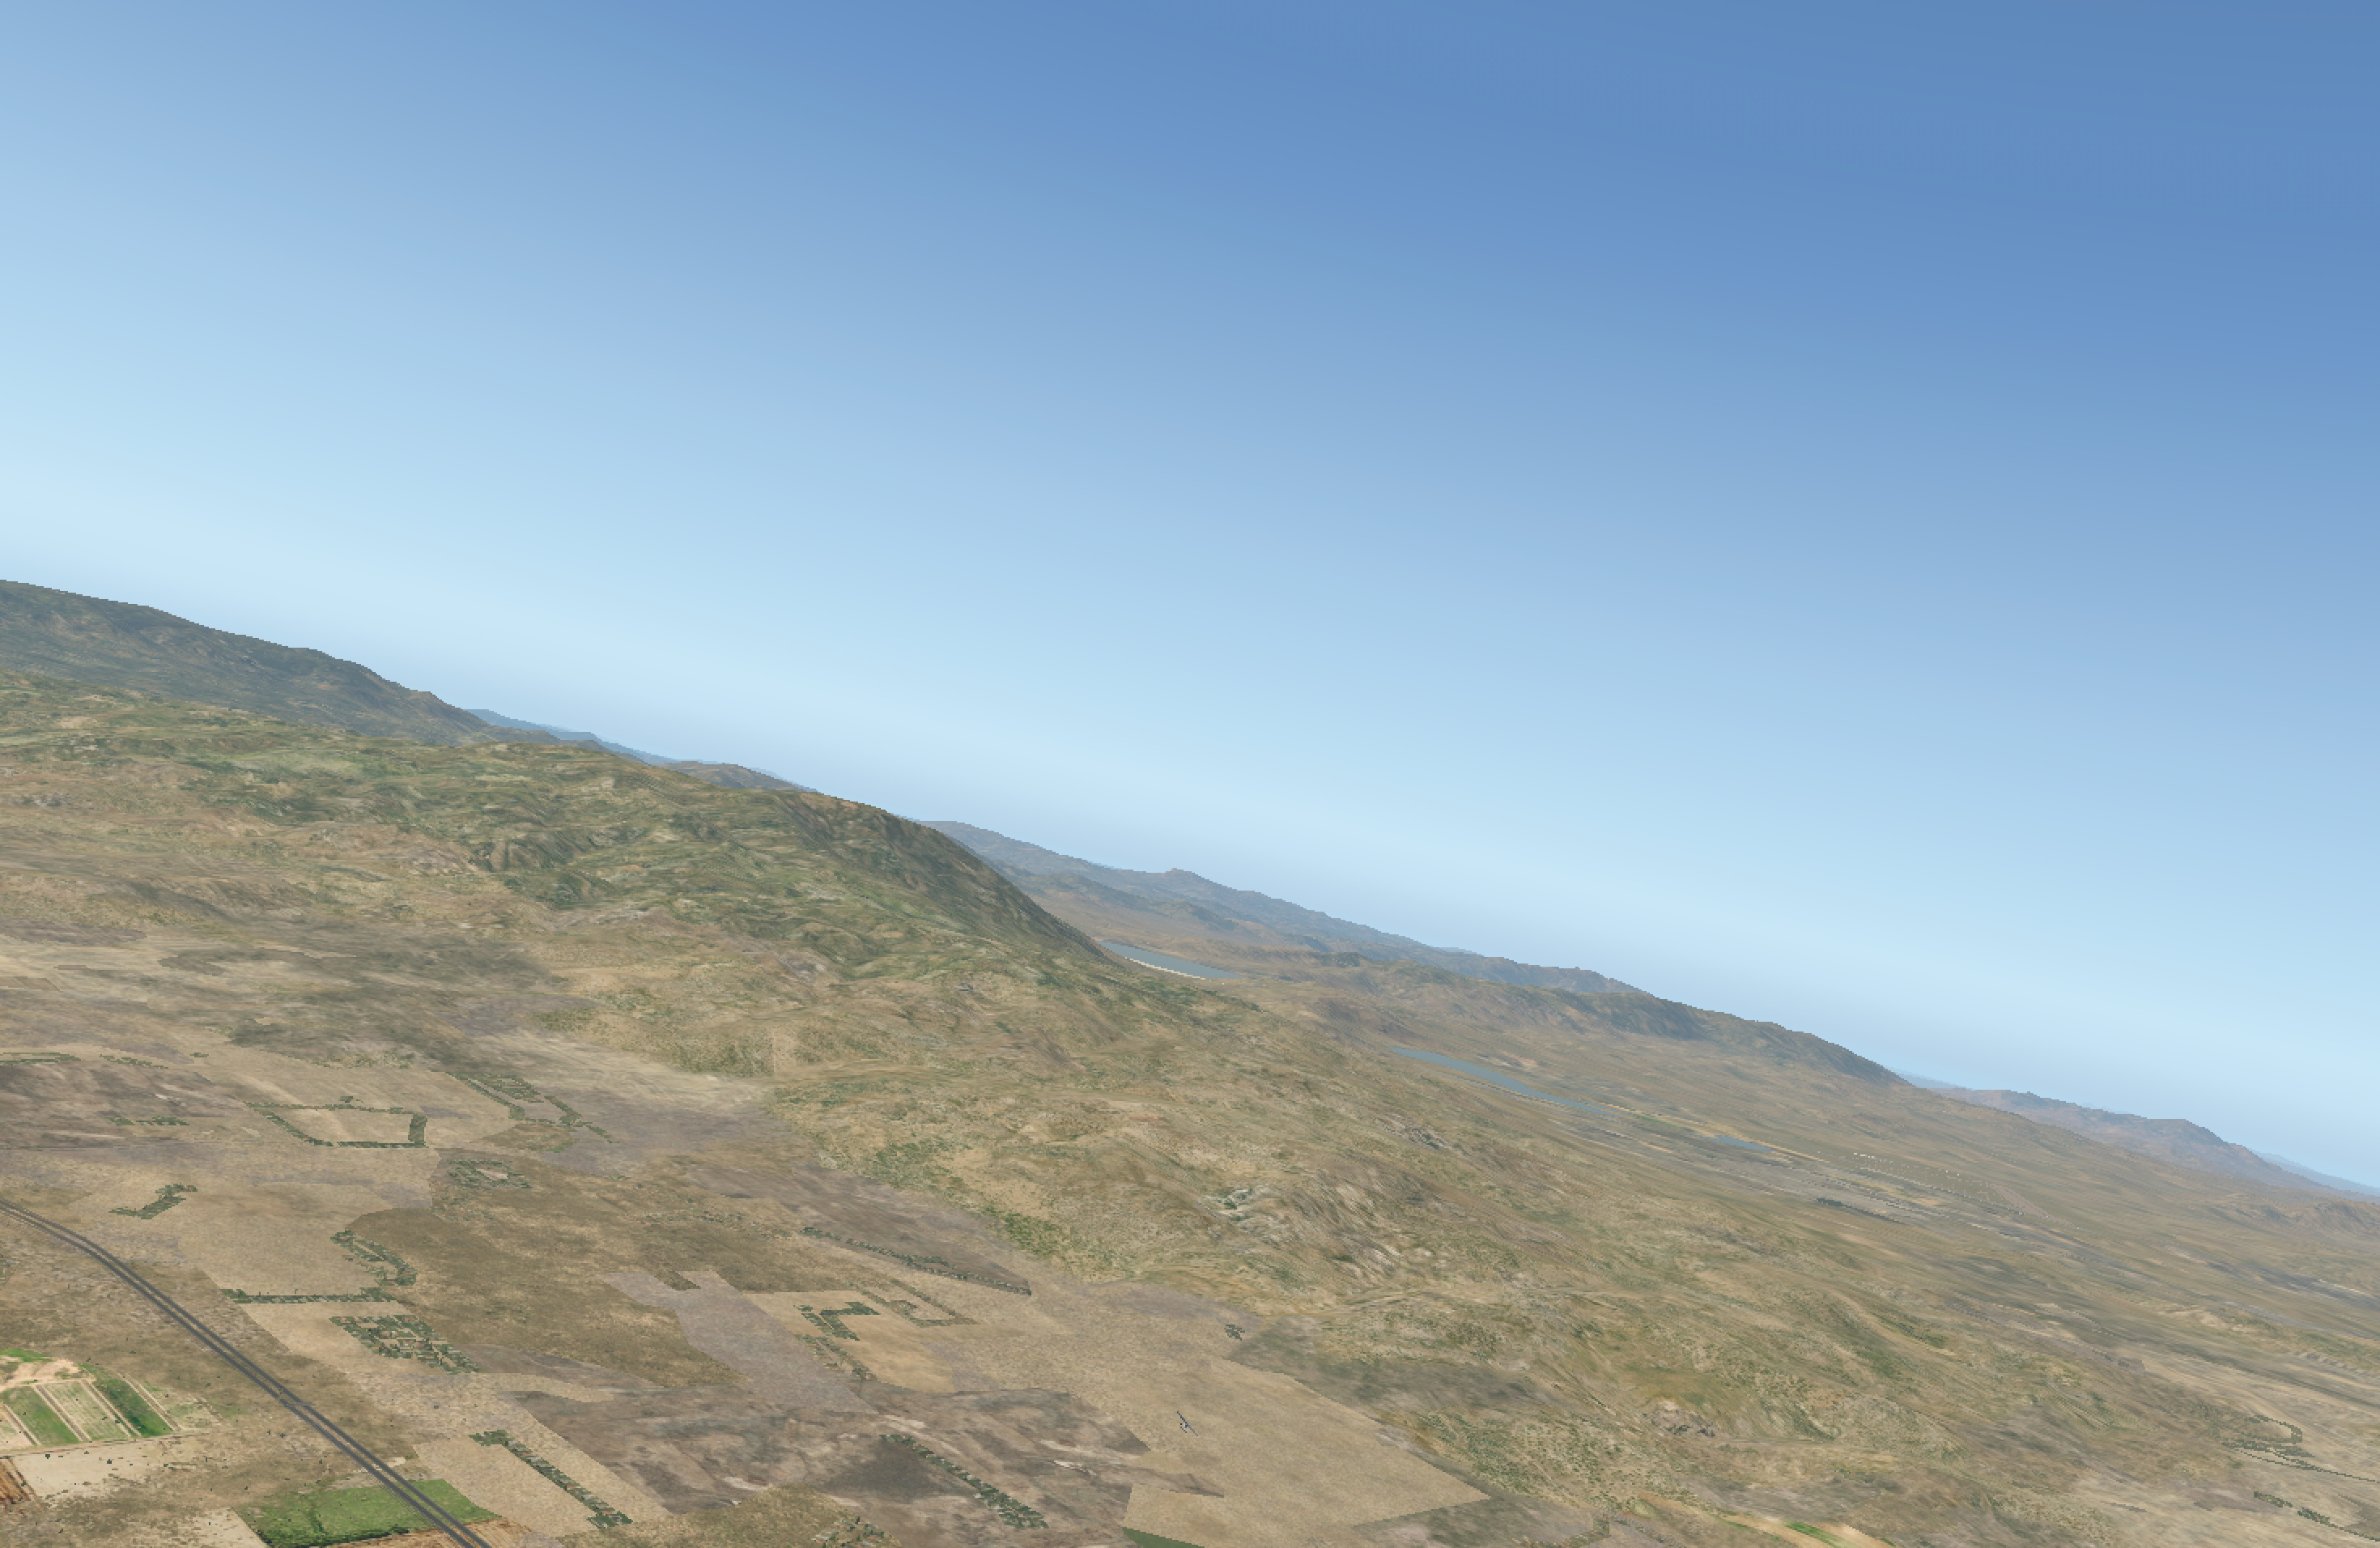aircraft: (1174, 1420, 1197, 1428)
